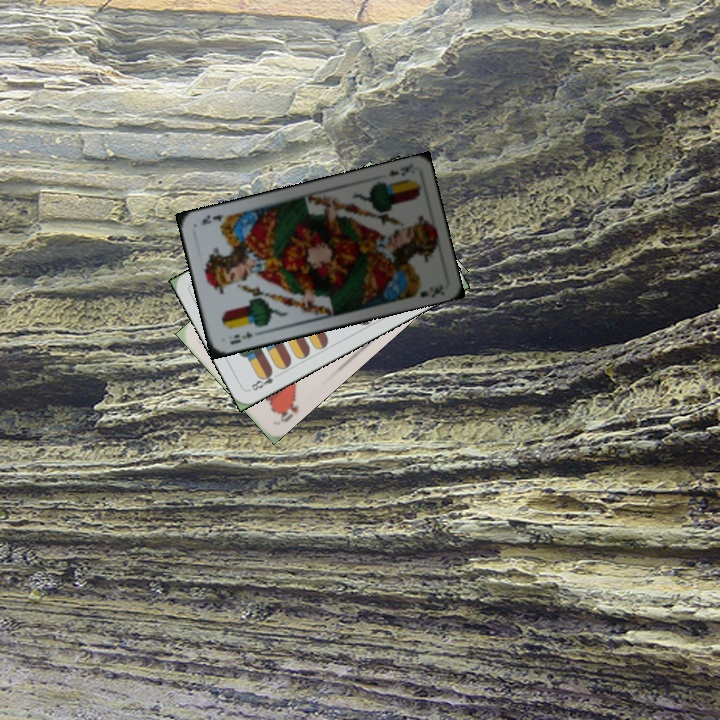E8: (245, 366, 283, 393)
EK: (384, 160, 416, 179), (226, 327, 255, 347)
HO: (274, 395, 301, 425)
